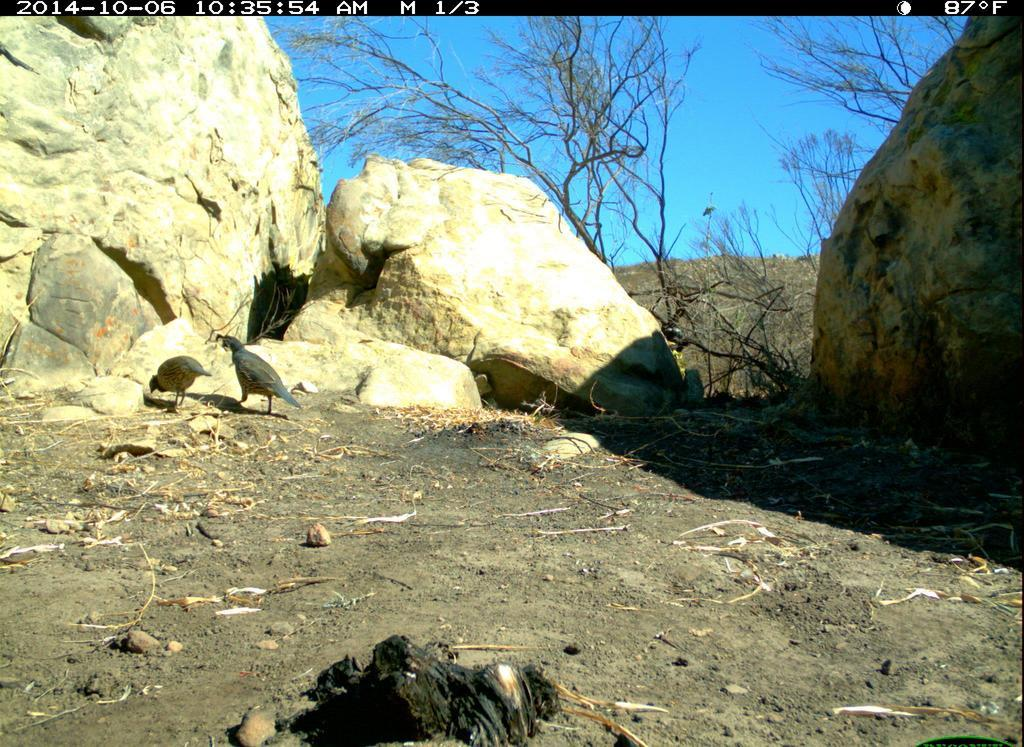bird: (217, 328, 306, 423), (143, 346, 213, 415)
